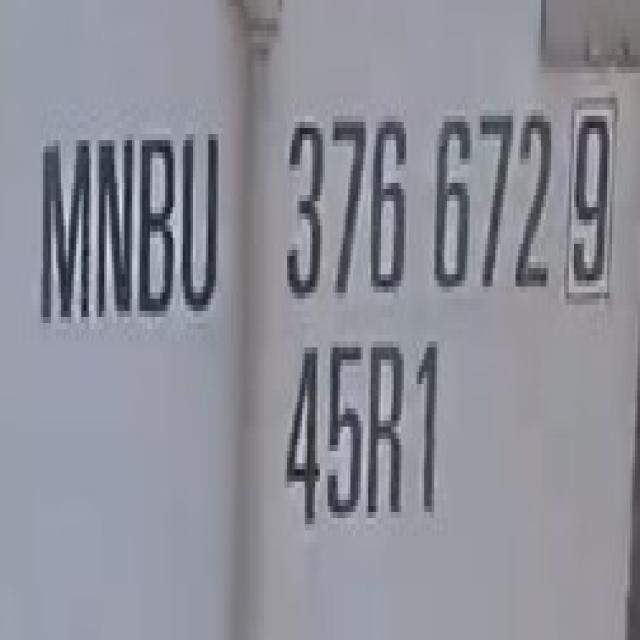dv: (564, 88, 620, 296)
owner: (27, 110, 232, 348)
serial: (285, 105, 565, 305)
size: (278, 323, 447, 550)
